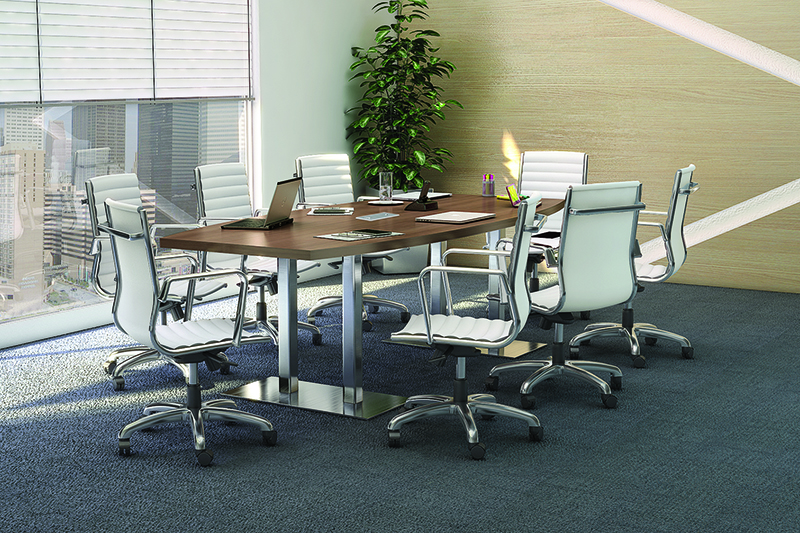conference_table: (160, 192, 566, 422)
